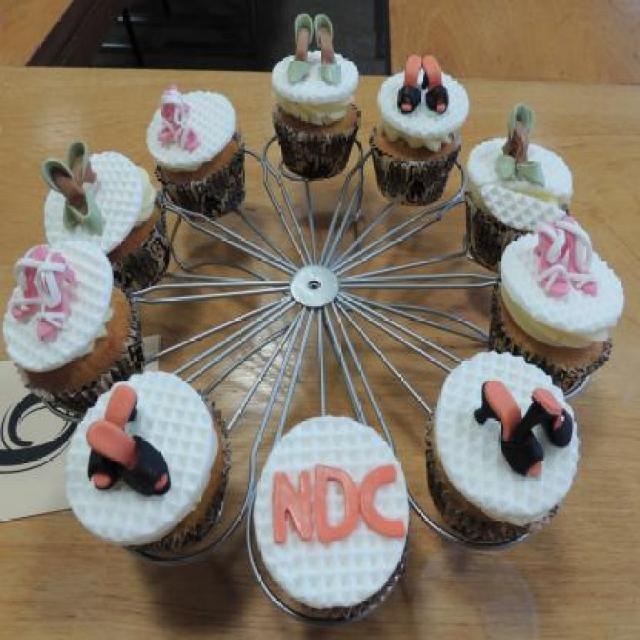Muffin: (0, 11, 626, 622)
